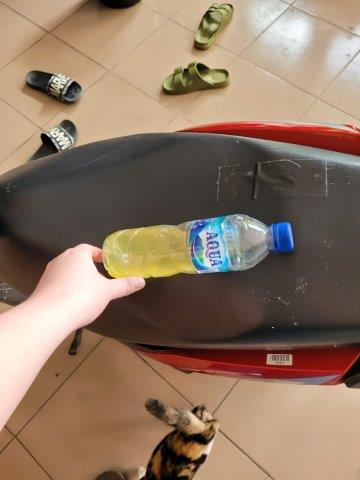botolplastik: (102, 213, 295, 279)
